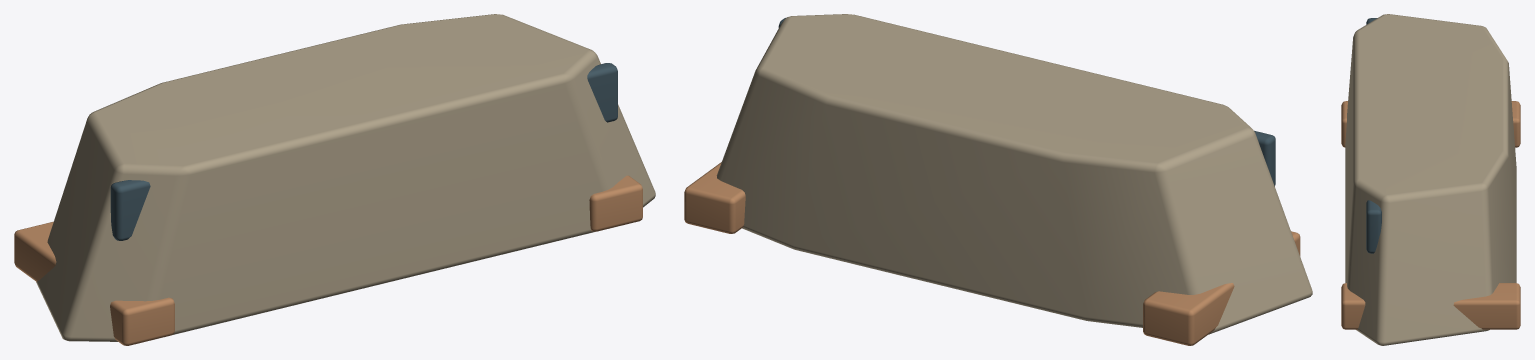
Rendered from GroundBarrier115.fbx.
The picture shows the model from 3 angles, left to right: view 1: azimuth 30°, elevation 25°; view 2: azimuth 150°, elevation 25°; view 3: azimuth 270°, elevation 25°; orthographic projection. The views are drawn at different scales.
Visible parts, largest first — view 1: Sloped ceramic barricade, Tie-down shoe, Steel impact face, Tie-down shoe.001; view 2: Sloped ceramic barricade, Tie-down shoe, Tie-down shoe.001, Steel impact face; view 3: Sloped ceramic barricade, Tie-down shoe.001, Steel impact face, Tie-down shoe.
Boxes of the visible parts, box(x1,y1,x2,y2) form: Sloped ceramic barricade: box(36, 14, 655, 341); Tie-down shoe: box(14, 221, 174, 345); Steel impact face: box(110, 63, 617, 240); Tie-down shoe.001: box(589, 175, 642, 231); Sloped ceramic barricade: box(716, 14, 1312, 334); Tie-down shoe: box(1143, 231, 1300, 345); Tie-down shoe.001: box(684, 162, 745, 233); Steel impact face: box(778, 18, 1275, 186); Sloped ceramic barricade: box(1345, 14, 1516, 345); Tie-down shoe.001: box(1341, 283, 1520, 329); Steel impact face: box(1366, 18, 1381, 253); Tie-down shoe: box(1341, 101, 1520, 147).
Size of the model in its own units: 315 by 82 by 104.
